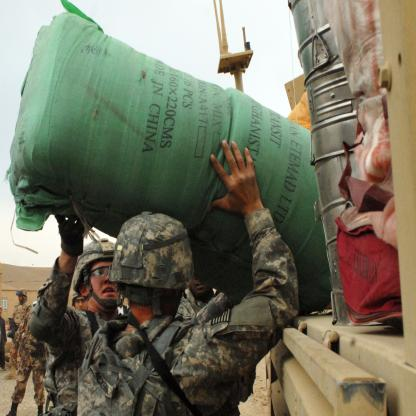Helmet: (102, 220, 192, 312), (70, 236, 119, 314), (70, 289, 81, 304), (16, 289, 26, 305)
